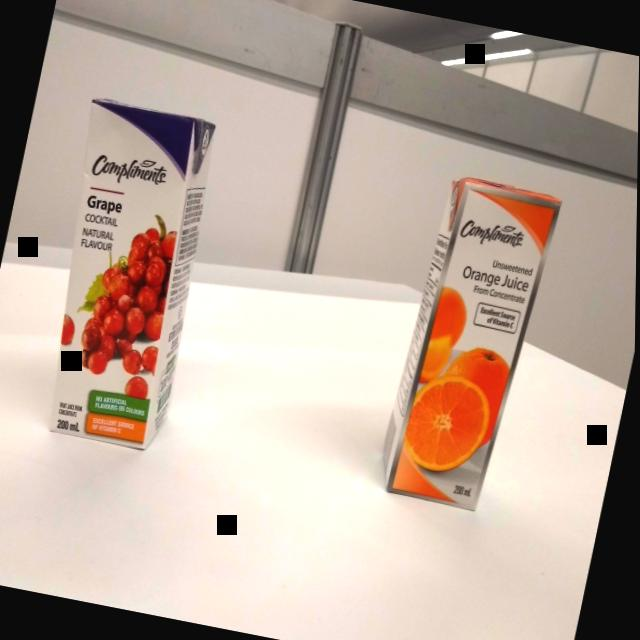grape_juice: (18, 86, 237, 461)
orange_juice: (368, 164, 570, 520)
